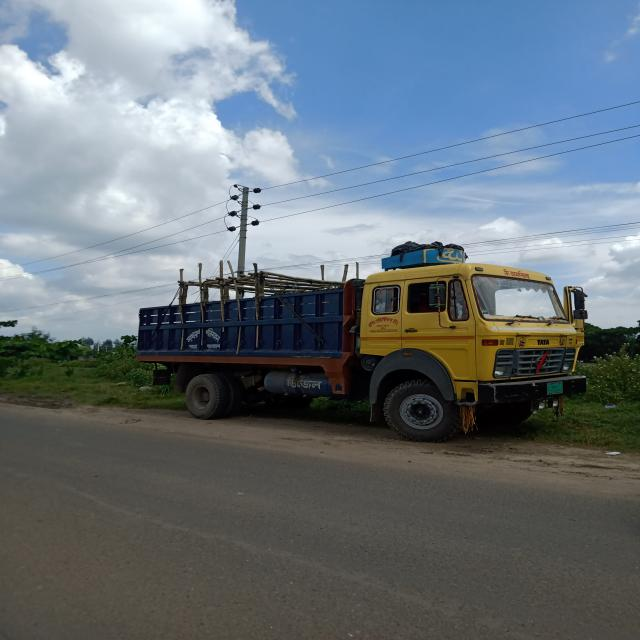truck: (120, 232, 594, 452)
